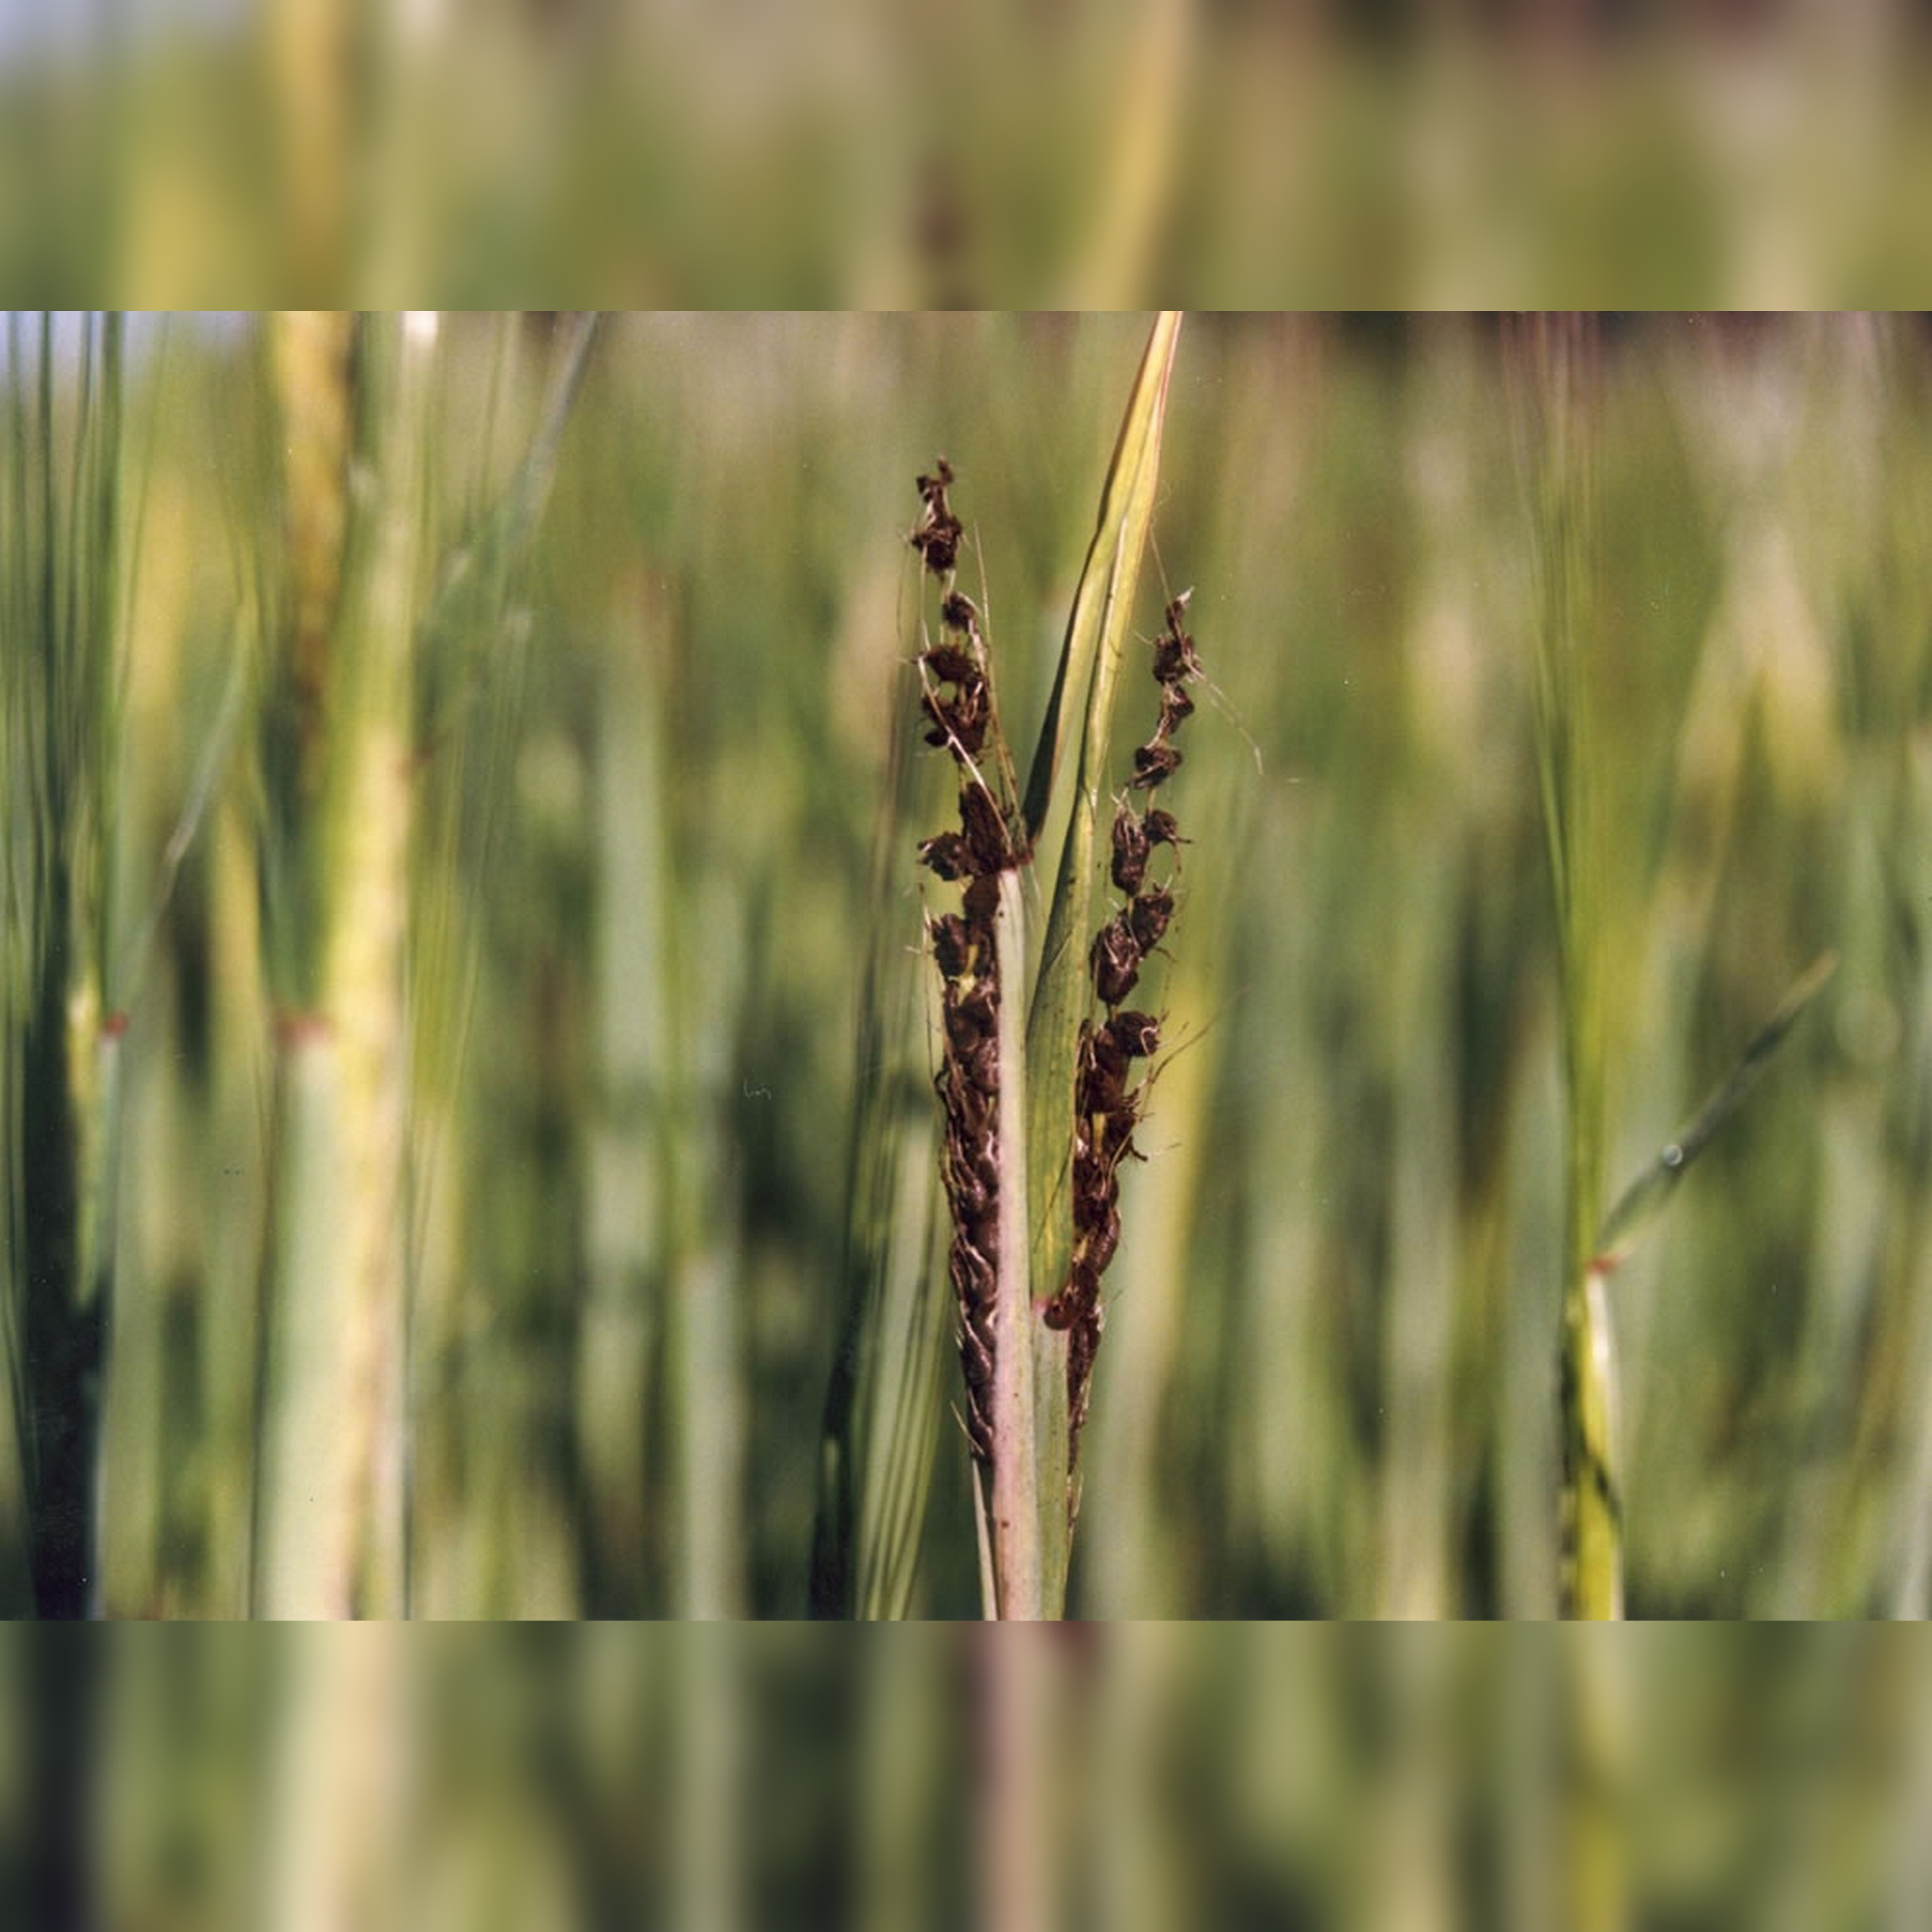Wheat Loose Smut: (847, 446, 1240, 1445)
